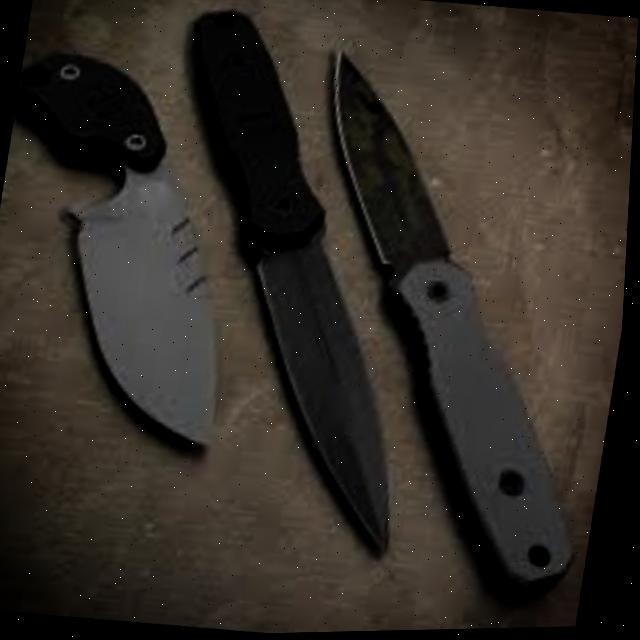Knife: (255, 42, 638, 607), (117, 0, 470, 563), (0, 40, 273, 453)
